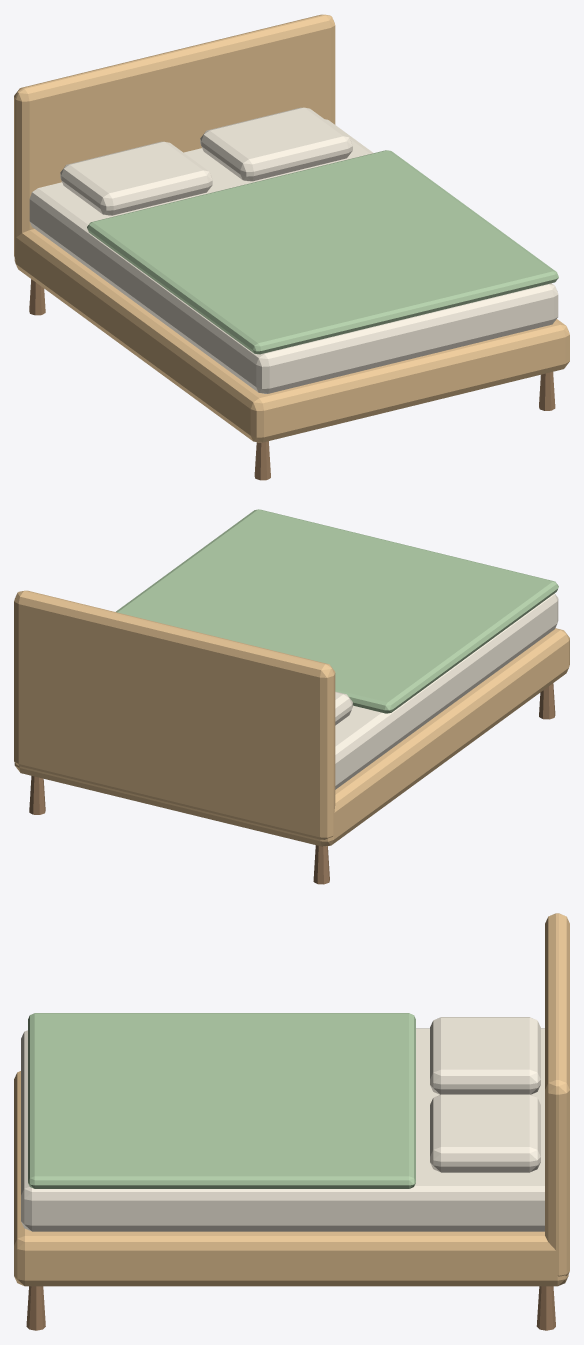
The model's file is cozy-home-interiors-double-bed-5e14597d.glb.
3 views of the same model, one above another, from view 1: azimuth 30°, elevation 25°; view 2: azimuth 150°, elevation 25°; view 3: azimuth 270°, elevation 25° (orthographic). The views are drawn at different scales.
Visible parts, largest first — view 1: double-bed; view 2: double-bed; view 3: double-bed.
Boxes of the visible parts, x1,y1,x2,y2 form: double-bed: (14, 14, 569, 480); double-bed: (14, 509, 569, 884); double-bed: (14, 913, 569, 1330).
Bounding box in the file's own units: 1.5 × 1 × 2.
